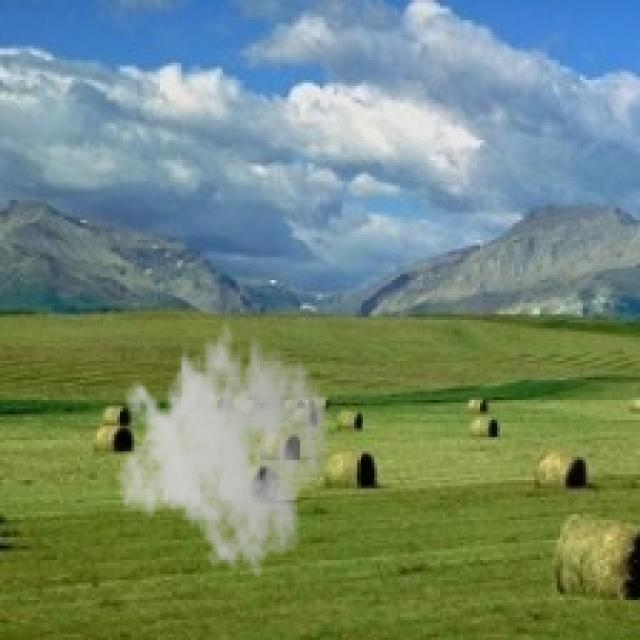smoke: (115, 306, 332, 580)
